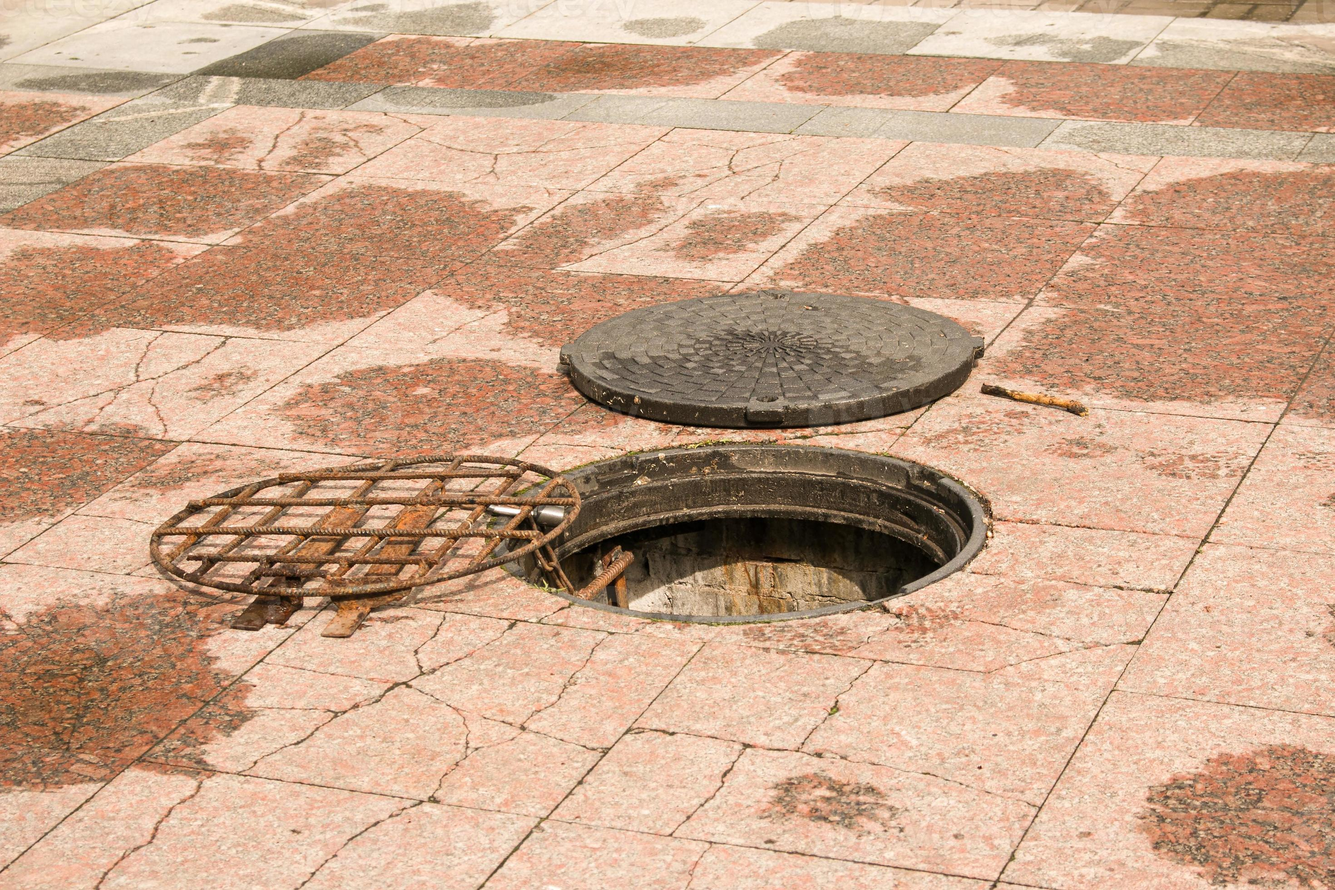Open_manhole: (189, 248, 1006, 665)
